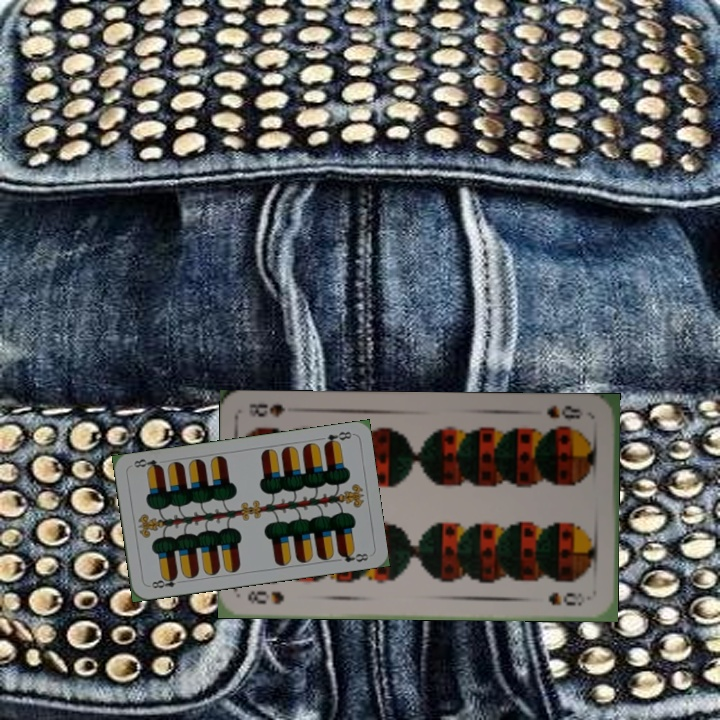E8: (145, 571, 185, 591), (320, 427, 354, 449)
S8: (542, 401, 585, 422), (244, 587, 287, 607)
